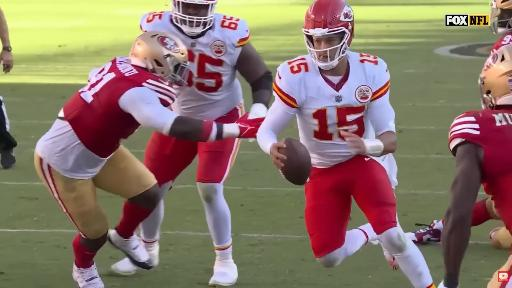Helmet: (303, 0, 354, 69), (130, 31, 188, 84), (479, 45, 511, 109), (172, 0, 217, 36), (490, 0, 511, 33)
Jersey: (274, 52, 394, 167), (140, 11, 249, 119), (61, 57, 174, 158), (449, 110, 511, 195), (372, 154, 397, 188), (491, 32, 511, 53)
Player: (35, 31, 262, 287), (257, 0, 433, 287), (440, 46, 511, 287), (140, 0, 273, 122), (490, 0, 511, 56), (491, 0, 511, 52)
